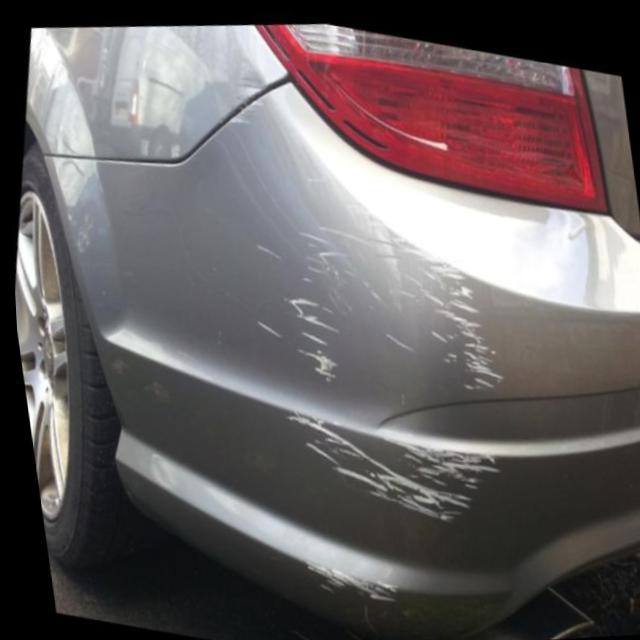Scratch: (276, 207, 511, 536), (299, 537, 403, 611)
